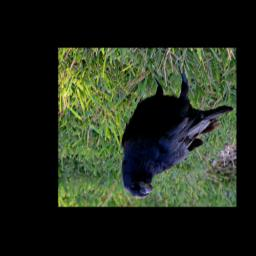Crow: (121, 63, 234, 199)
